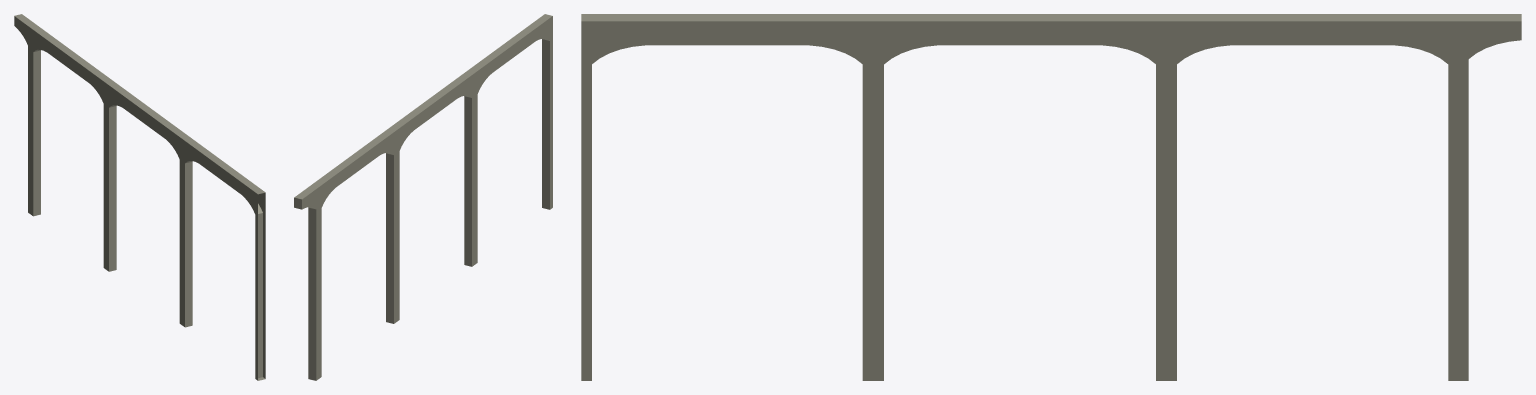
Rendered from SM_WindowFrame_1.fbx.
The picture shows the model from 3 angles, left to right: view 1: azimuth 30°, elevation 25°; view 2: azimuth 150°, elevation 25°; view 3: azimuth 270°, elevation 25°; orthographic projection. The views are drawn at different scales.
Visible parts, largest first — view 1: SM_WindowFrame_1; view 2: SM_WindowFrame_1; view 3: SM_WindowFrame_1.
Part boxes in pixels (x1,y1,x2,y2): SM_WindowFrame_1: (14,14,265,380); SM_WindowFrame_1: (294,14,552,380); SM_WindowFrame_1: (581,14,1521,380).
Size of the model in its own units: 35.48 by 1946 by 821.
1 material, 1 textured.
